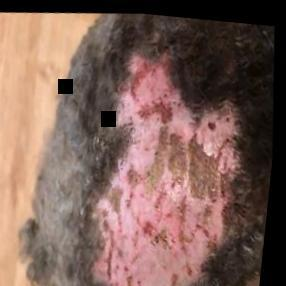skin_lesions: (71, 26, 268, 286)
